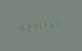one: (35, 20, 40, 31), (53, 18, 58, 29), (59, 18, 64, 28)
six: (17, 22, 22, 32), (47, 19, 52, 29)
two: (23, 21, 28, 32), (41, 19, 46, 30)
zero: (29, 21, 34, 31)
